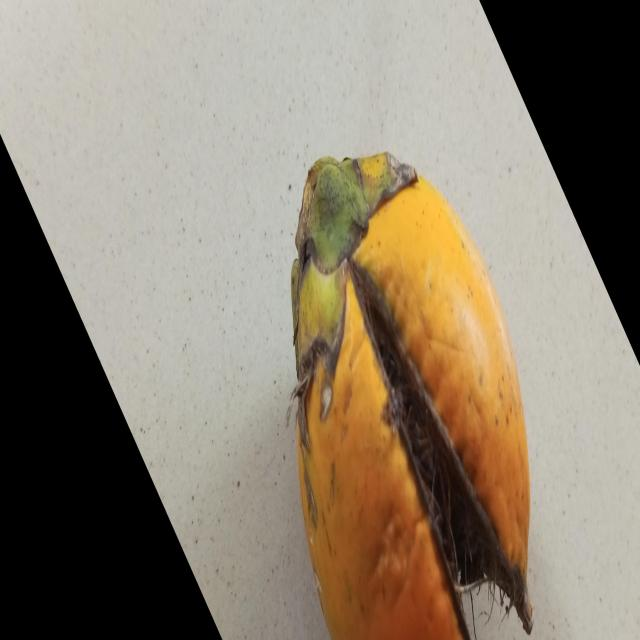damaged: (291, 153, 533, 640)
